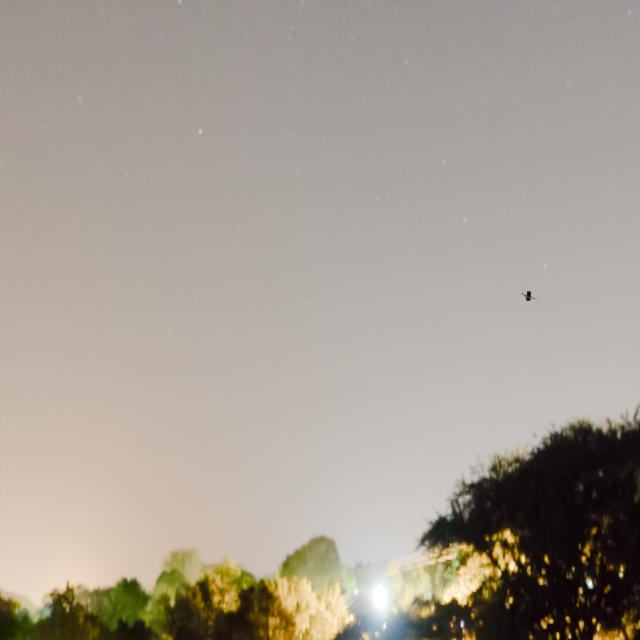drone: (520, 288, 537, 301)
